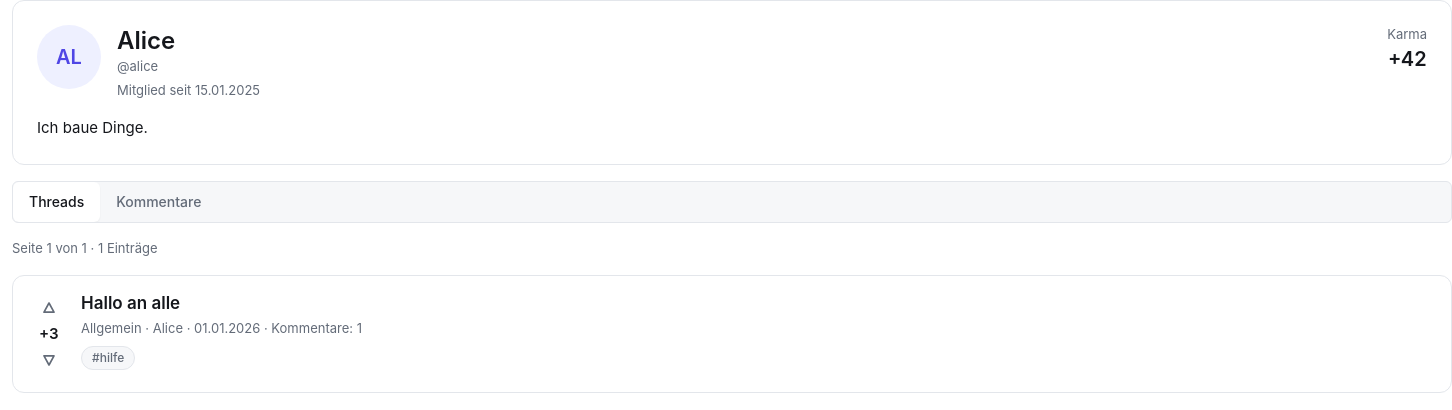
it: ProfilePage › renders bio, karma and both the thread and comment lists
Check: the text "Ich baue Dinge." is shown, box [37,118,148,137]
Check: the text "+42" is shown, box [1387,44,1427,72]
Switching to the comments tab loads the user's comments.
Click the tab "Kommentare" at {"x": 159, "y": 202}, box [100,182,217,222]
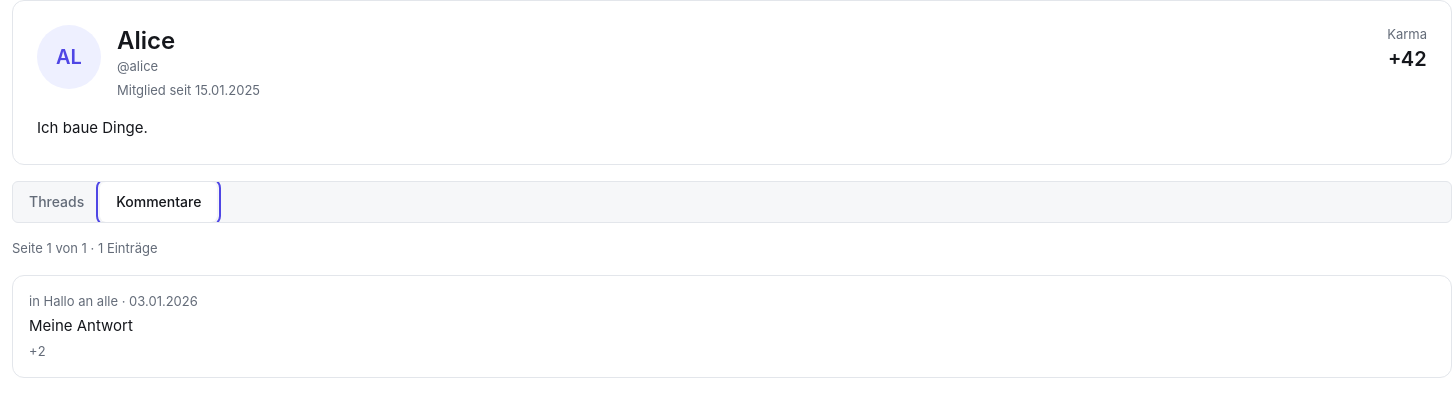
Check: the text "Meine Antwort" is shown, box [29,316,133,335]
